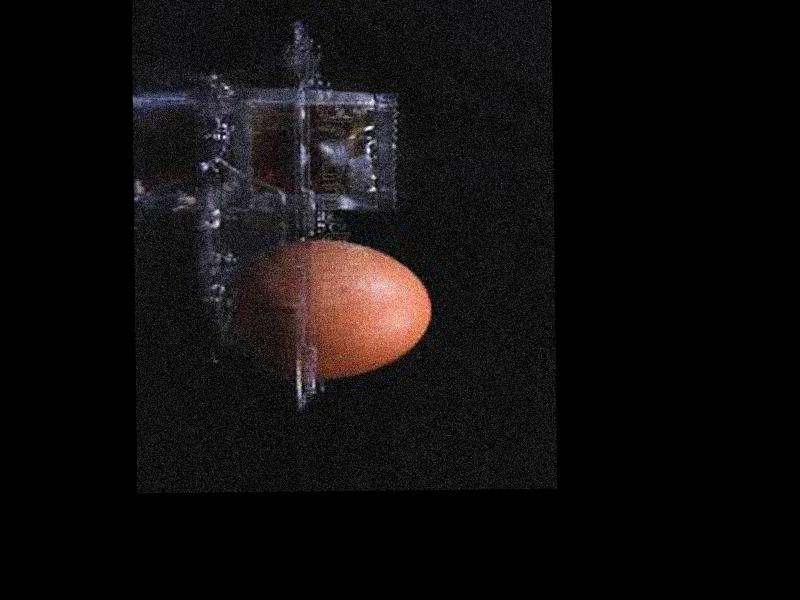Eggs: (223, 239, 431, 382)
